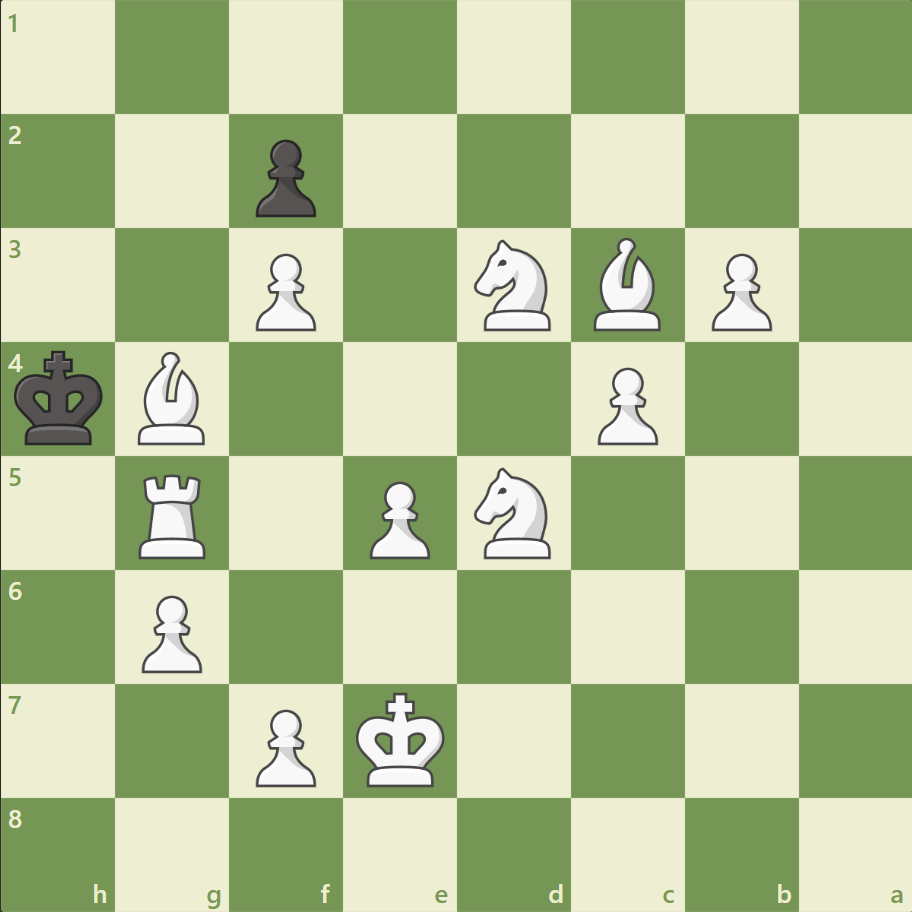B: (585, 233, 669, 336), (131, 347, 215, 449)
K: (351, 685, 451, 793)
N: (465, 461, 562, 564), (465, 234, 562, 337)
P: (247, 700, 322, 791), (133, 586, 208, 677), (701, 246, 776, 337), (247, 246, 322, 337), (361, 473, 435, 564), (588, 359, 662, 450)
R: (133, 466, 215, 563)
k: (11, 344, 111, 452)
p: (247, 132, 322, 223)
